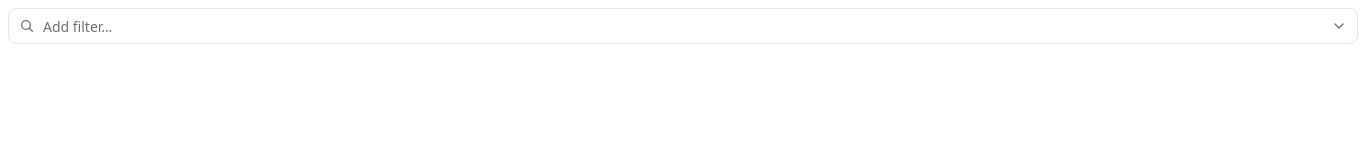
Test: adding a filter › commits an operator without a value at once
Click the dropdown labelled "Add filter…". click: (683, 26)
box: [41,13,1325,39]
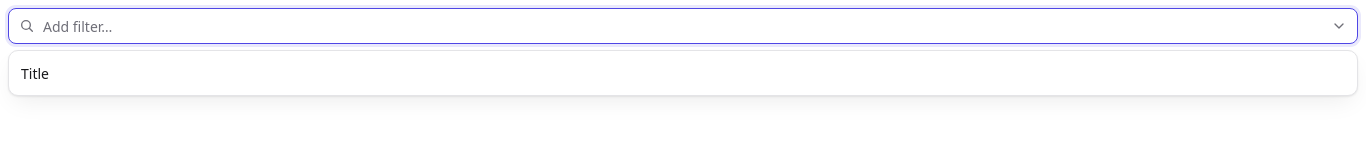
Click the option "Title". click: (35, 73)
box: [21,64,49,82]
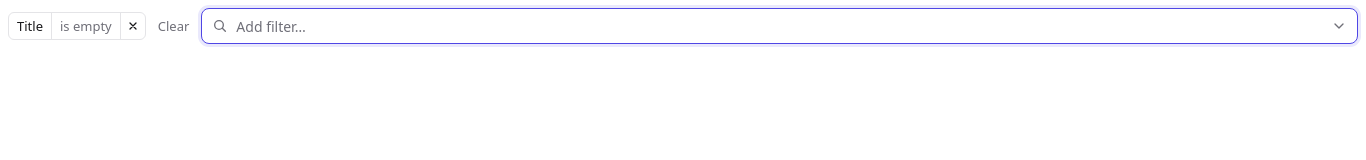
Result: the element "Title is empty" is shown at [8,12,146,40]
